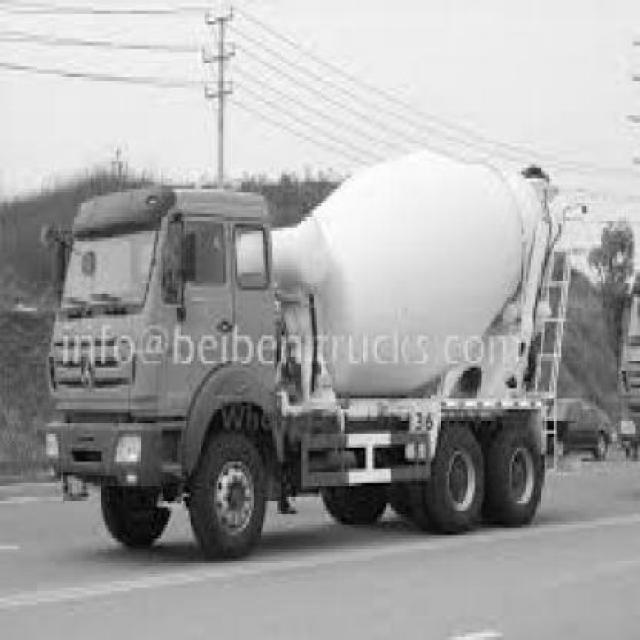Concrete Mixer: (43, 155, 571, 563)
